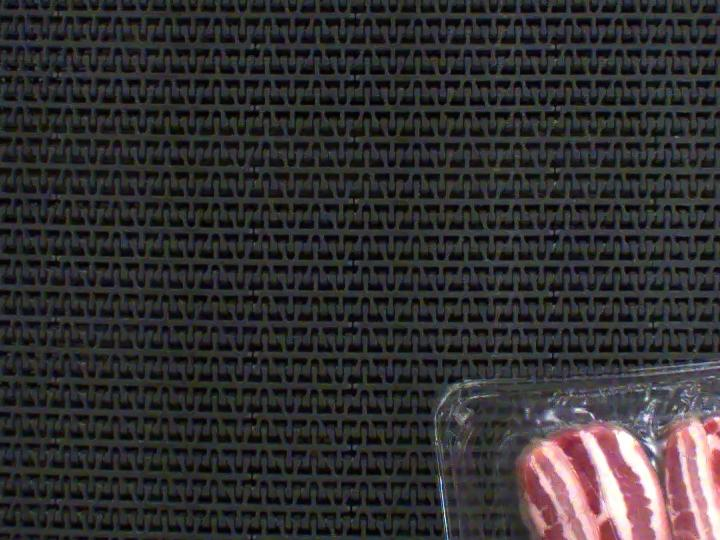unsealed: (483, 360, 720, 492)
